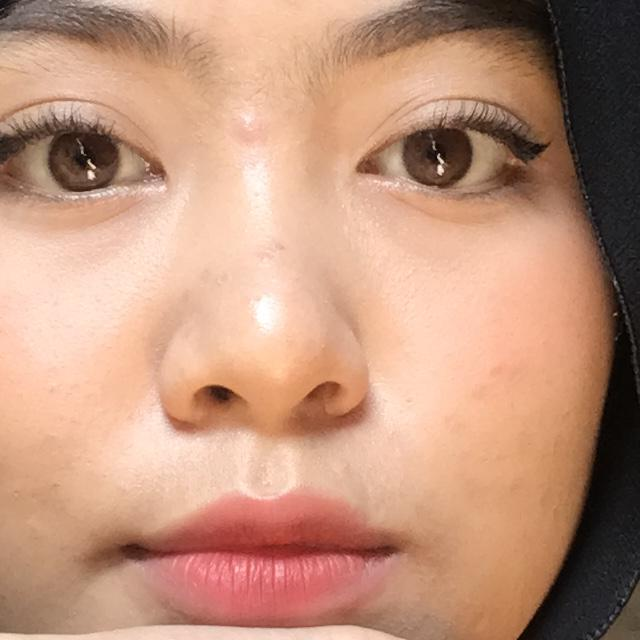sedih: (0, 506, 640, 640)
